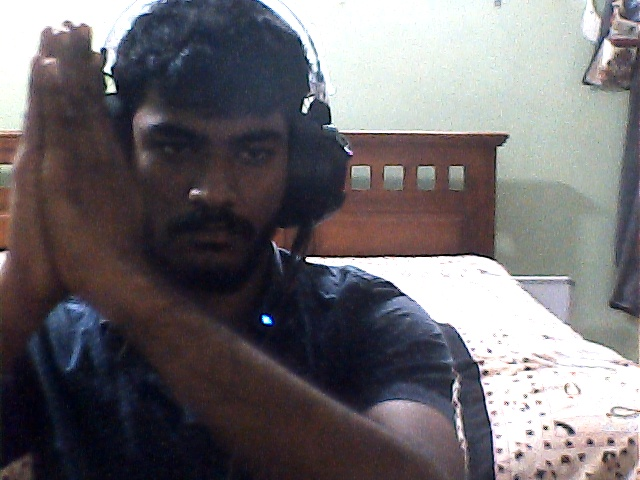Sign: (10, 20, 158, 326)
